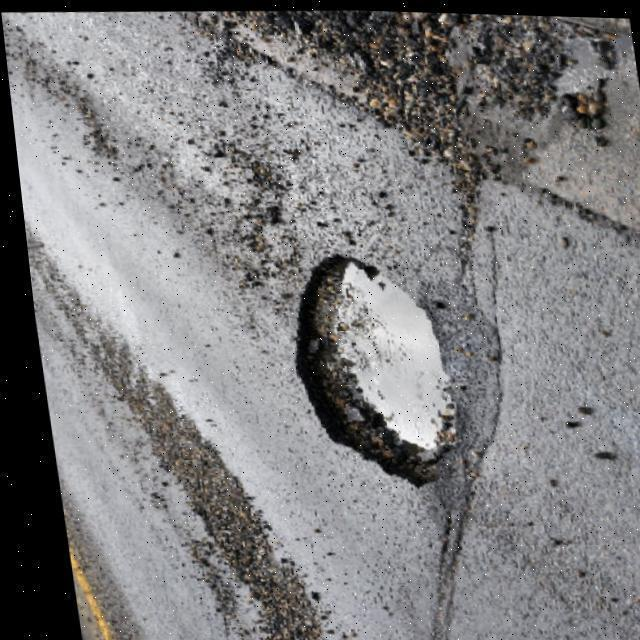Pothole: (289, 247, 460, 499)
